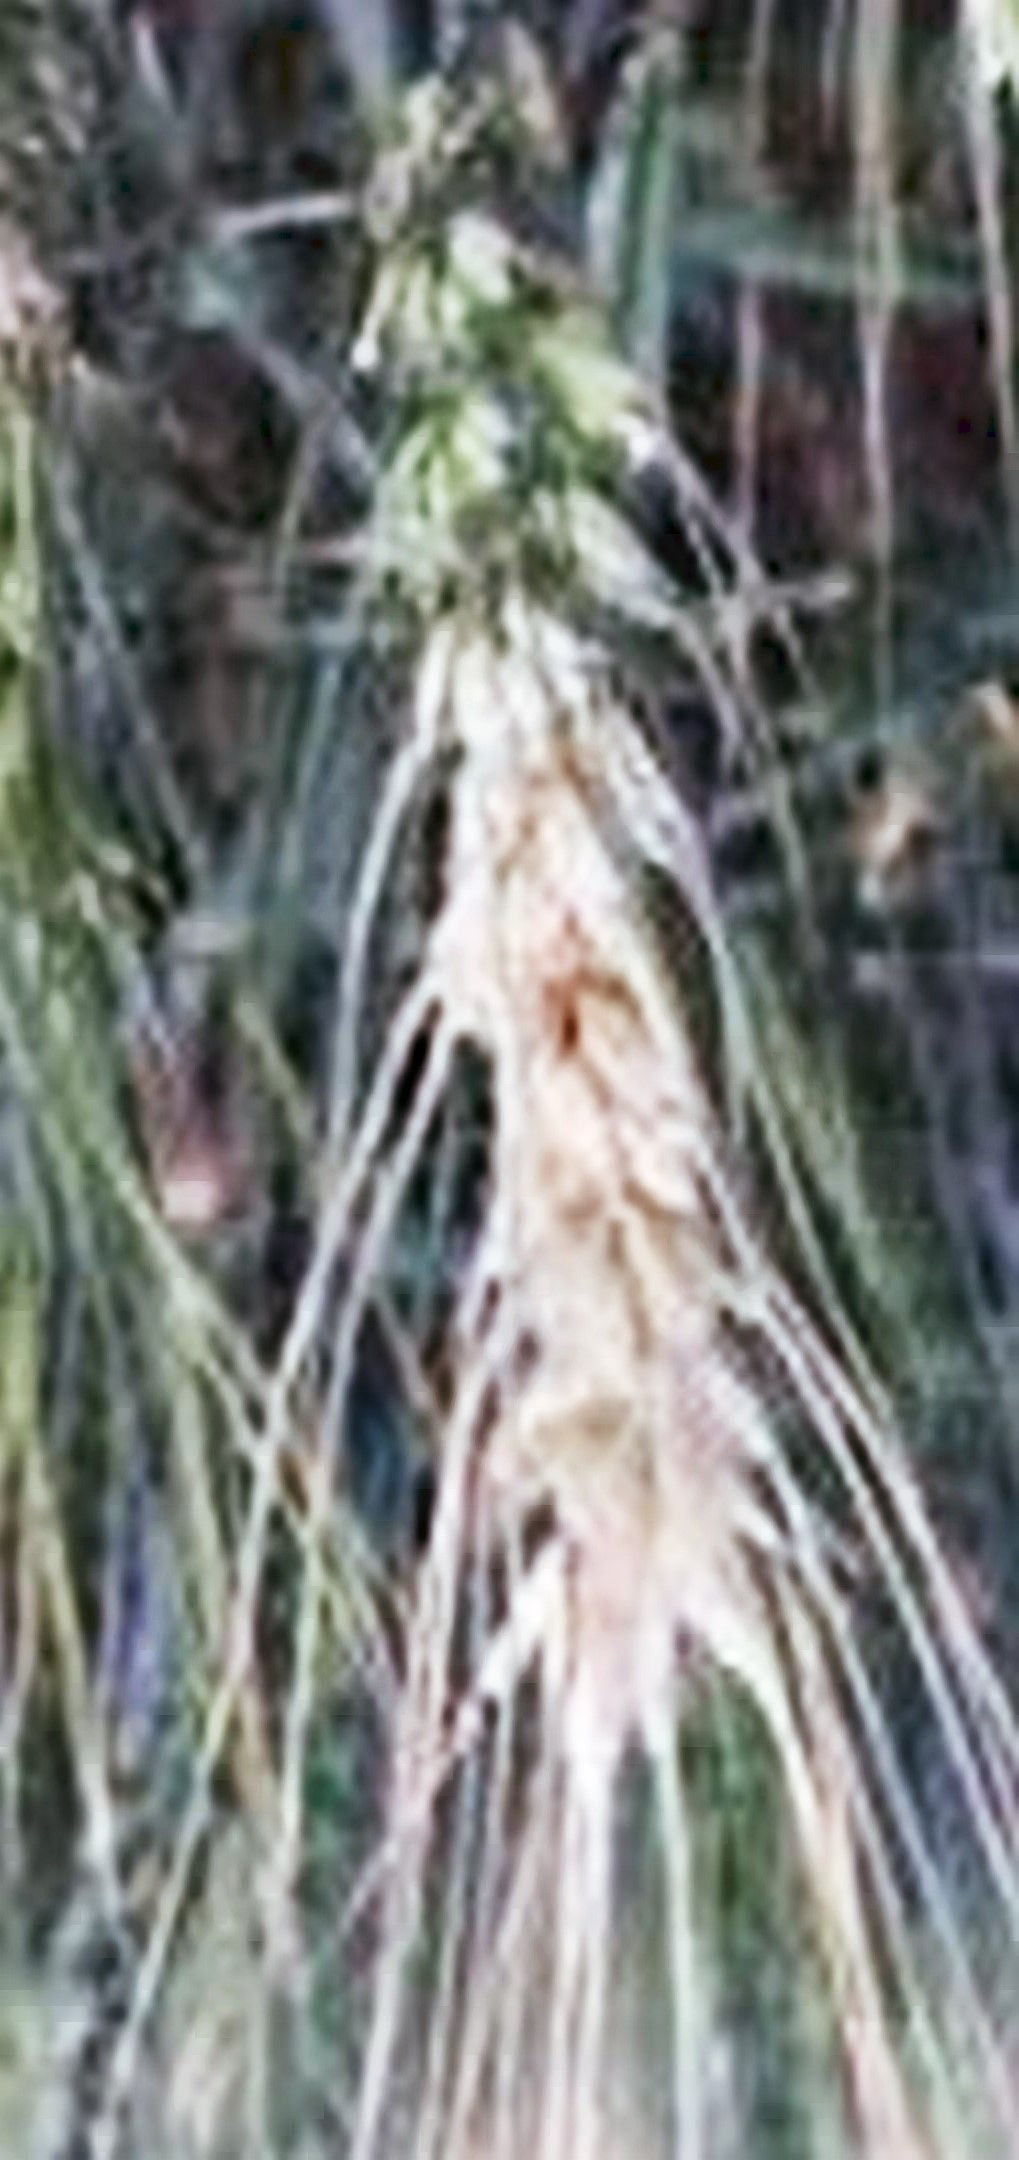Wheat scab: (370, 161, 766, 1723)
